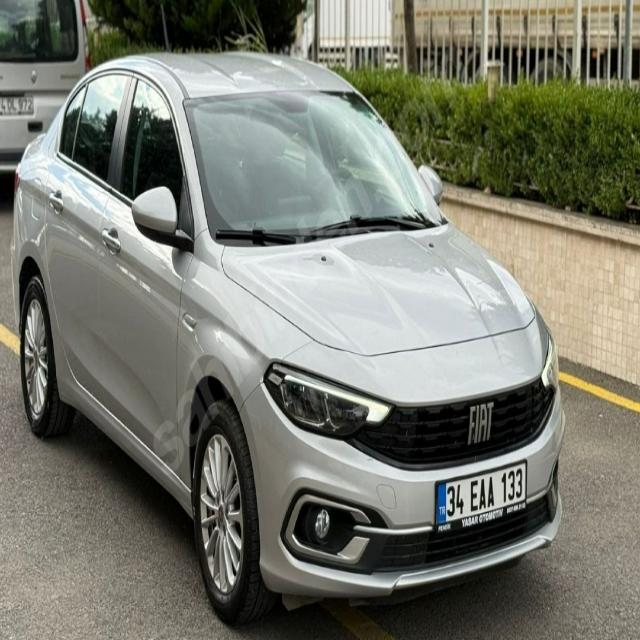fiat: (458, 393, 498, 449)
